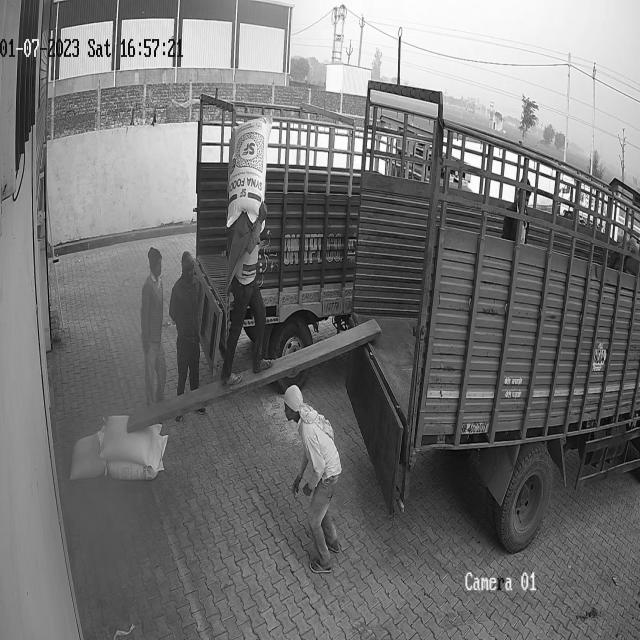sack: (226, 113, 270, 224)
